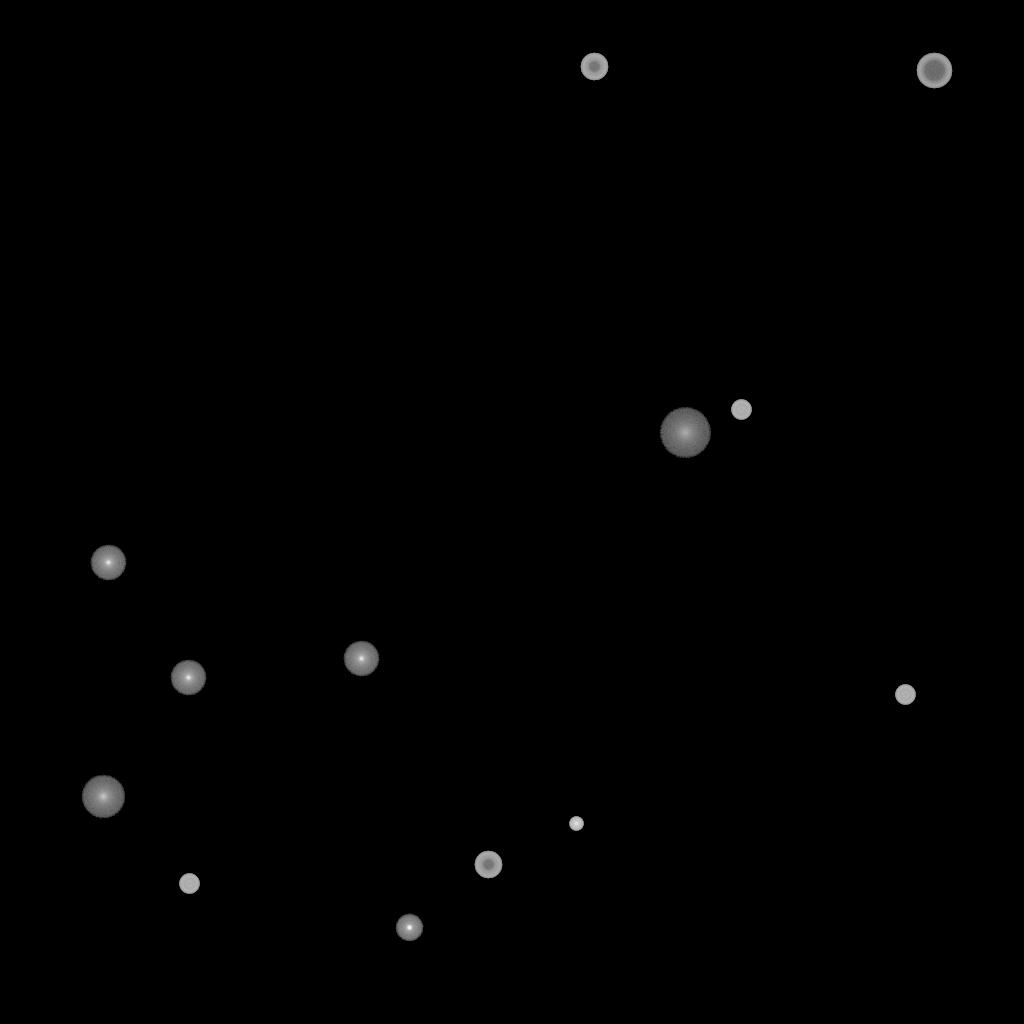depth:-10: (395, 914, 423, 942)
depth:-30: (569, 817, 583, 831)
depth:-40: (895, 685, 915, 705), (179, 874, 199, 894), (731, 400, 751, 420)
depth:-50: (580, 53, 608, 81), (474, 851, 502, 879)
depth:-60: (916, 53, 952, 89)
depth:0: (90, 545, 126, 581), (343, 641, 379, 677), (170, 660, 206, 696)
depth:10: (81, 775, 125, 819)
depth:20: (659, 408, 711, 458)
